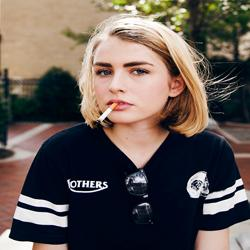cigarro: (96, 98, 120, 126)
fumador: (54, 33, 230, 245)
